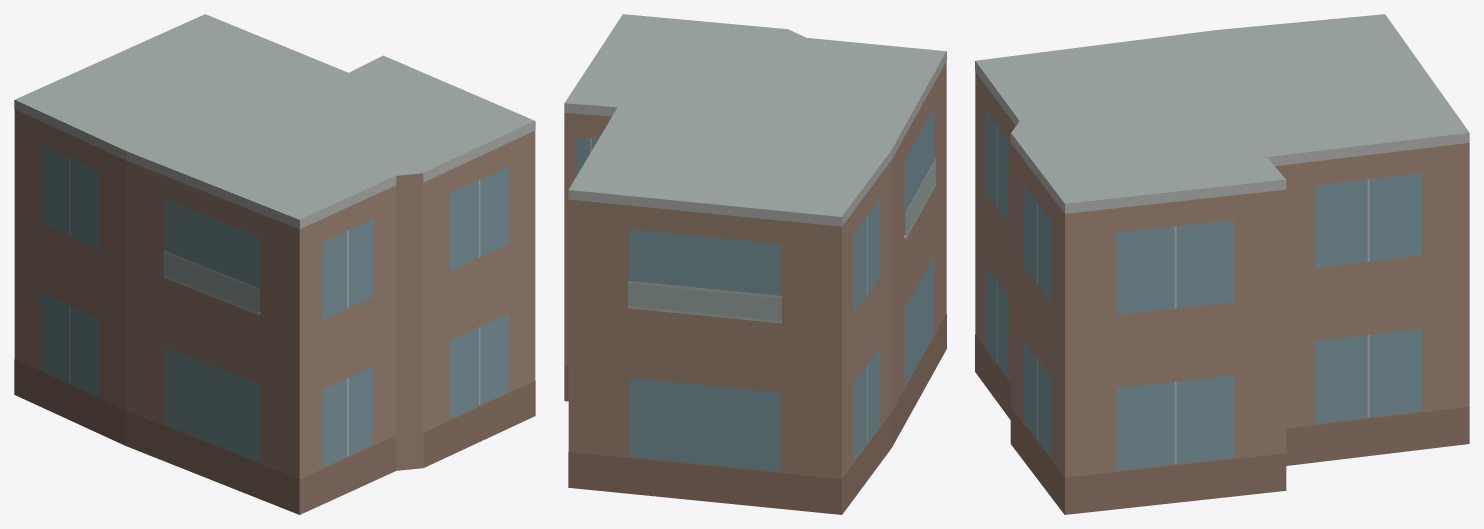
Rendered from survey-upis-32607300.glb.
3 views of the same model, side by side, from view 1: azimuth 30°, elevation 25°; view 2: azimuth 150°, elevation 25°; view 3: azimuth 270°, elevation 25° (orthographic). The views are drawn at different scales.
Parts seen in each view (by area): view 1: survey-upis-32607300.tmp; view 2: survey-upis-32607300.tmp; view 3: survey-upis-32607300.tmp.
Boxes of the visible parts, x1,y1,x2,y2 form: survey-upis-32607300.tmp: [14, 14, 535, 514]; survey-upis-32607300.tmp: [564, 14, 946, 514]; survey-upis-32607300.tmp: [975, 14, 1469, 514].
Size of the model in its own units: 9.96 by 7.6 by 10.96.
